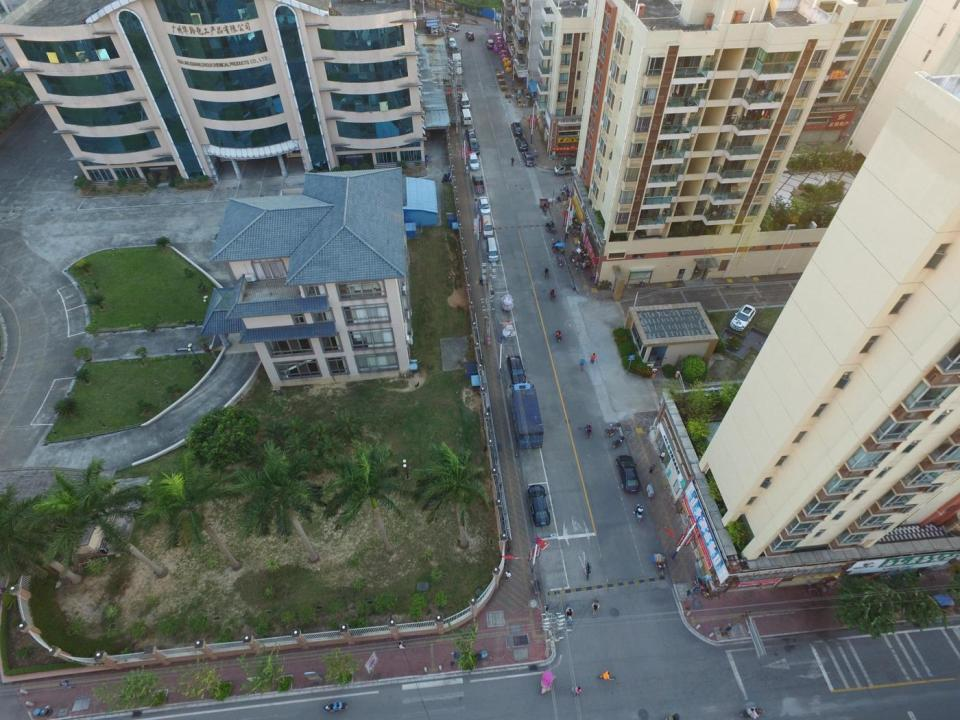car: (525, 484, 551, 527), (615, 455, 641, 493), (729, 303, 756, 332), (507, 353, 526, 386), (479, 196, 490, 217), (468, 152, 480, 171), (516, 136, 529, 153), (468, 138, 481, 155), (522, 151, 535, 167), (511, 122, 523, 138), (466, 127, 476, 140), (447, 37, 457, 49), (465, 30, 474, 41), (486, 38, 494, 49)
truck: (511, 382, 543, 450), (471, 173, 486, 194), (452, 53, 463, 67), (453, 65, 464, 78)
van: (554, 159, 582, 175), (486, 236, 499, 262), (457, 90, 472, 110), (481, 214, 493, 238), (461, 108, 473, 127), (446, 21, 460, 32)
